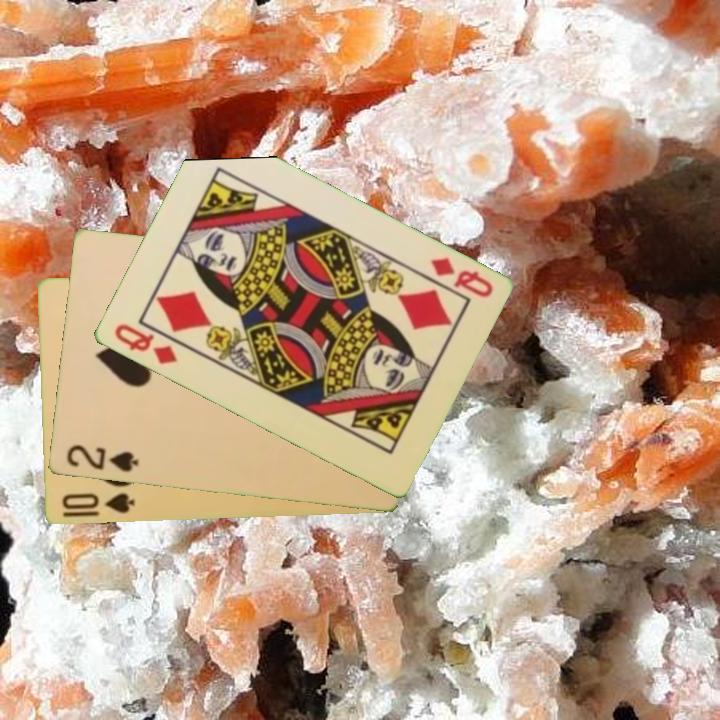10s: (58, 490, 137, 517)
2s: (62, 442, 141, 476)
Qd: (110, 320, 180, 368), (426, 254, 495, 301)
